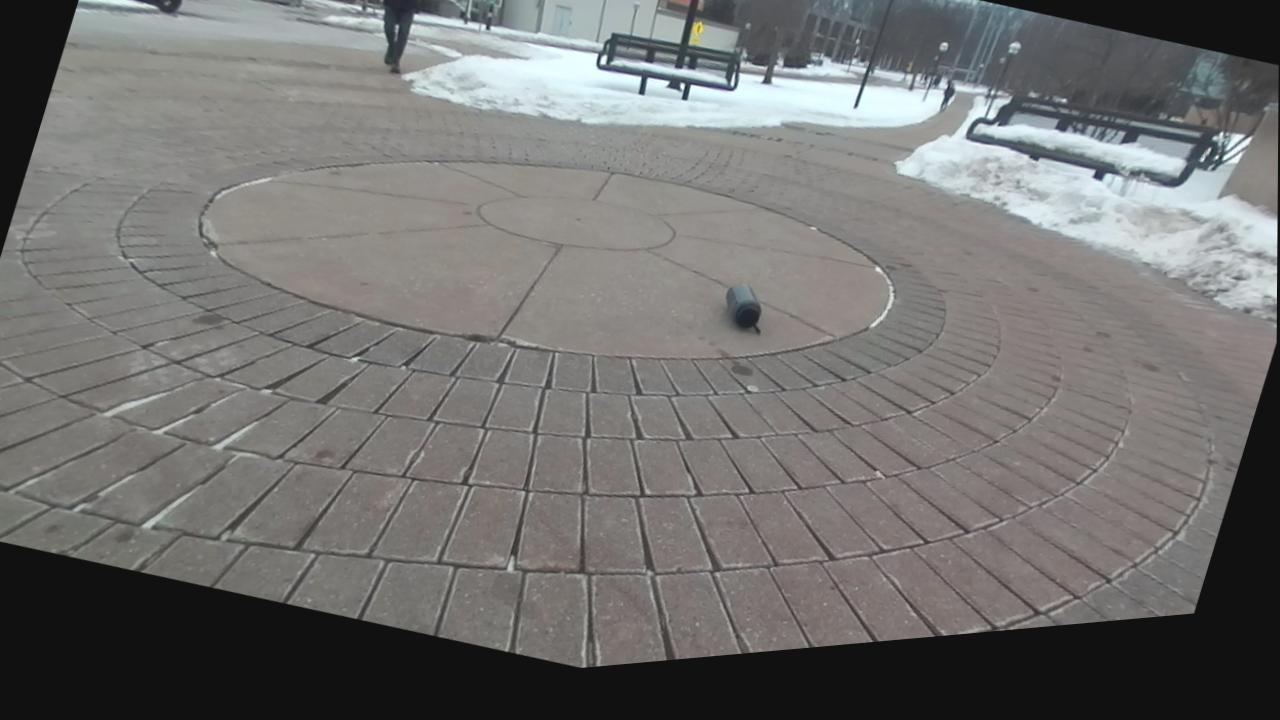bottle: (726, 284, 761, 327)
